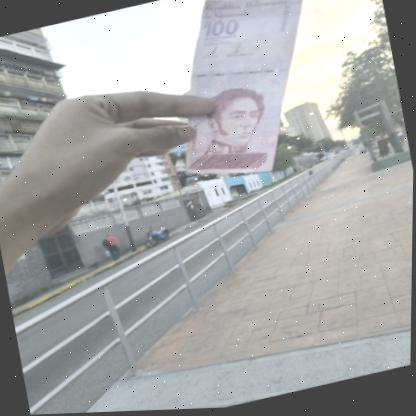one_hundred-front-vef: (152, 0, 336, 193)
